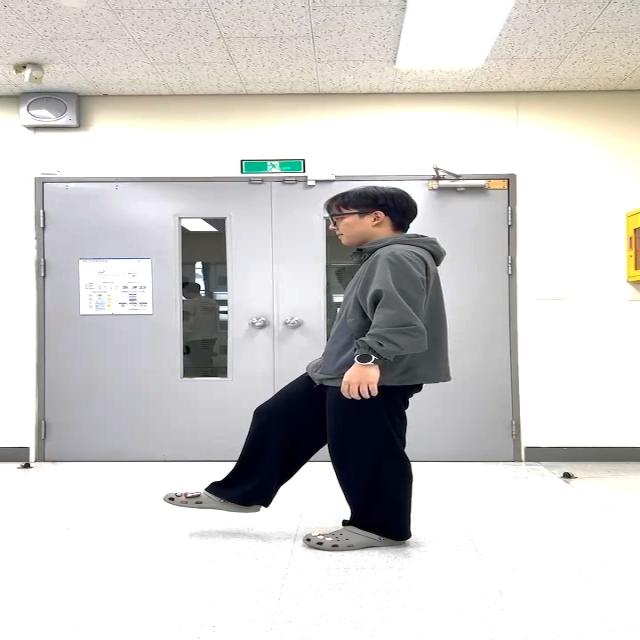leg: (163, 371, 327, 513), (303, 384, 416, 550)
